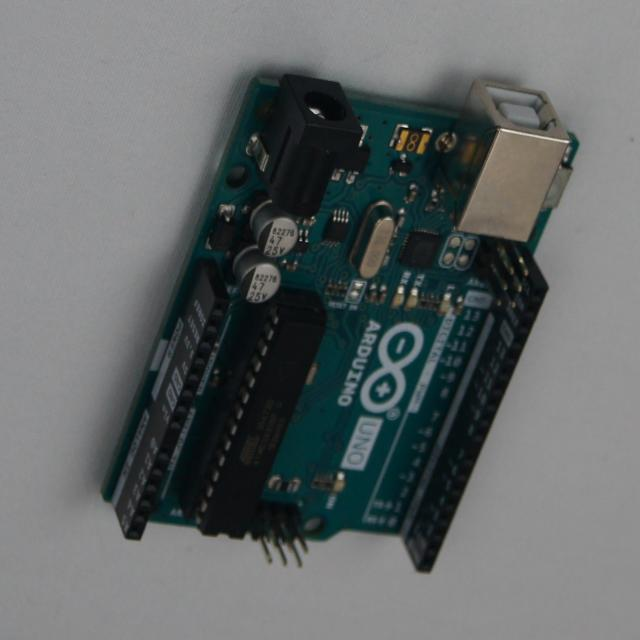Arduino Uno -Green-: (105, 74, 578, 573)
